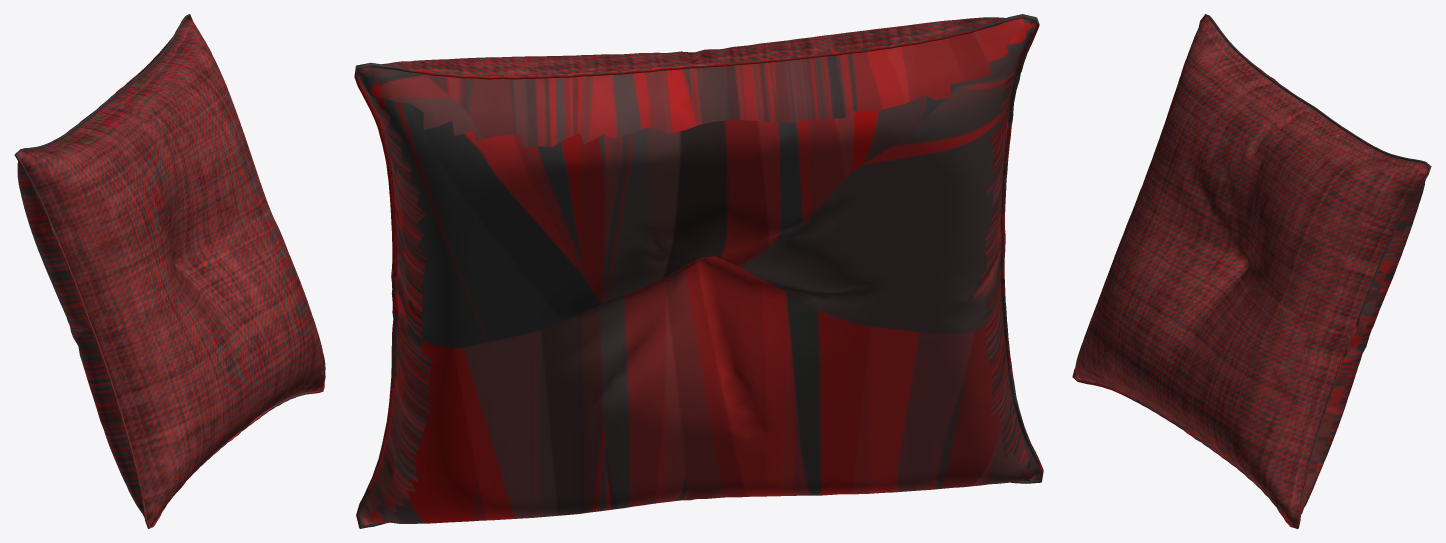
3 renders of one model, left to right at view 1: azimuth 30°, elevation 25°; view 2: azimuth 150°, elevation 25°; view 3: azimuth 270°, elevation 25°, orthographic. The views are drawn at different scales.
Parts seen in each view (by area): view 1: Item_piloww1; view 2: Item_piloww1; view 3: Item_piloww1.
Part boxes in pixels (<box>): Item_piloww1: <box>14,14,325,528</box>; Item_piloww1: <box>354,14,1043,528</box>; Item_piloww1: <box>1072,14,1431,528</box>.
Size of the model in its own units: 0.4355 by 0.4165 by 0.3896.
Materials: 1 (1 with a texture image).
